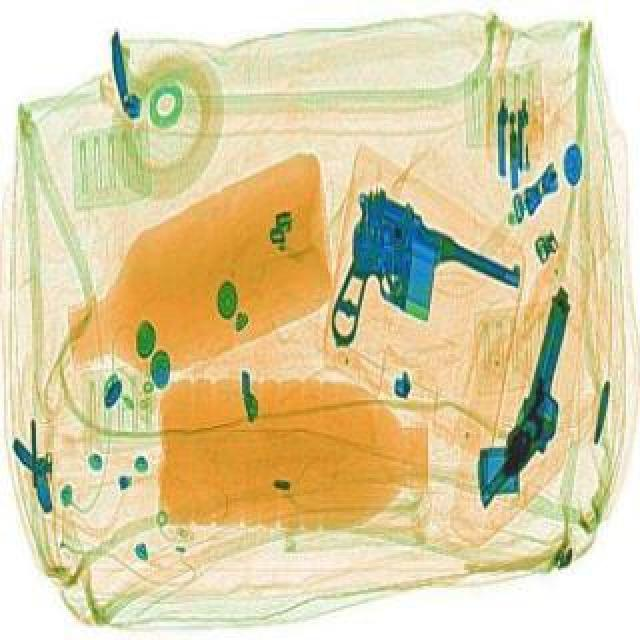gun: (286, 178, 538, 400), (464, 282, 594, 510)
